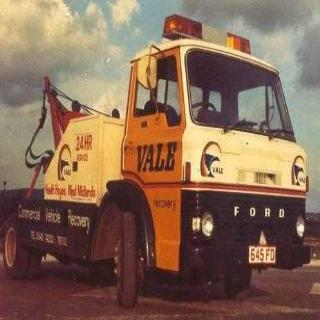Towing_truck: (2, 12, 311, 308)
